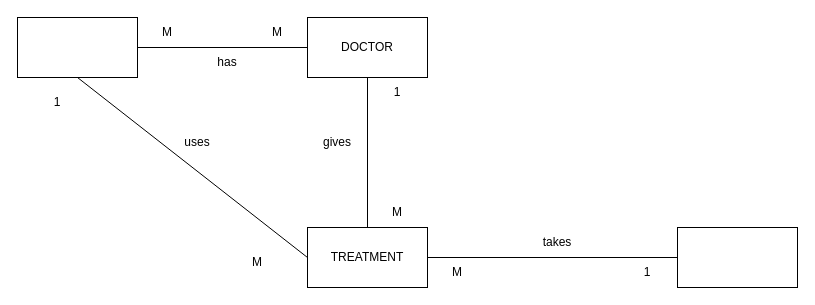
The diagram is 815 pixels wide and 305 high, and some of its shapes have lost their labels. The shapes that lost their labels are listed below. From the top down, each one's centre as x and y in pixels, then its label:
At pixel 77 47: "SPECIALTY".
At pixel 737 257: "PATIENT".
